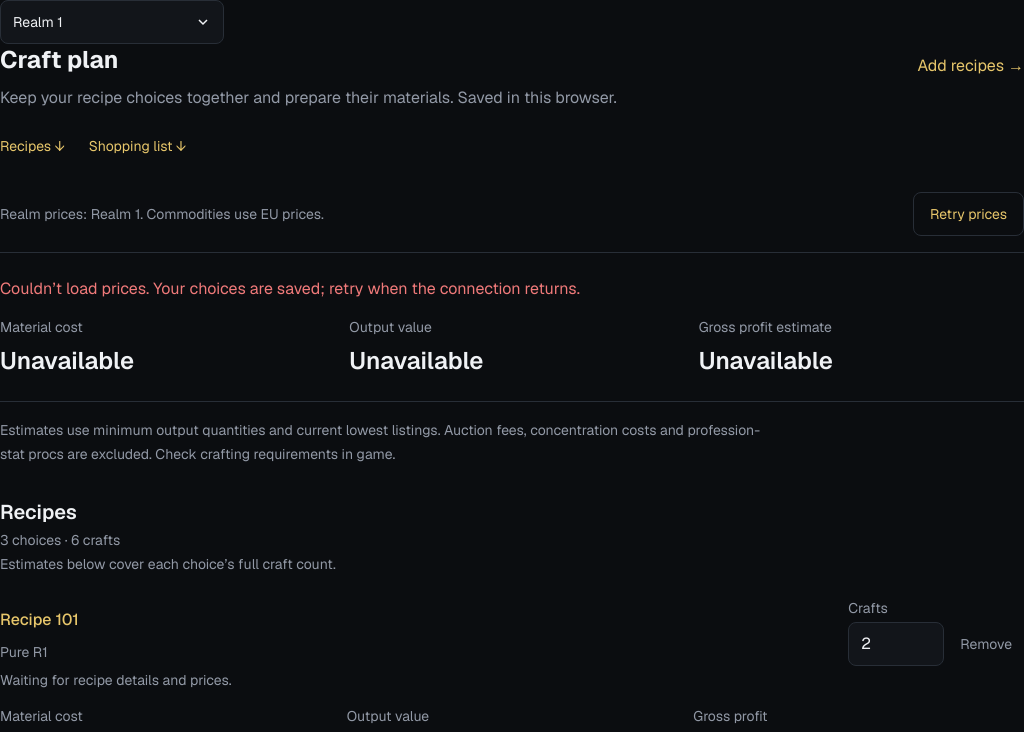
Test case: returning to a realm recovers after its earlier request failed
Expected: the message is shown, [0,278,580,299]
What coordinates should you click on to do the following:
click the button with aria-label "Connected realm:"
I would click on:
 (112, 22)
Its box is [0,0,224,44].
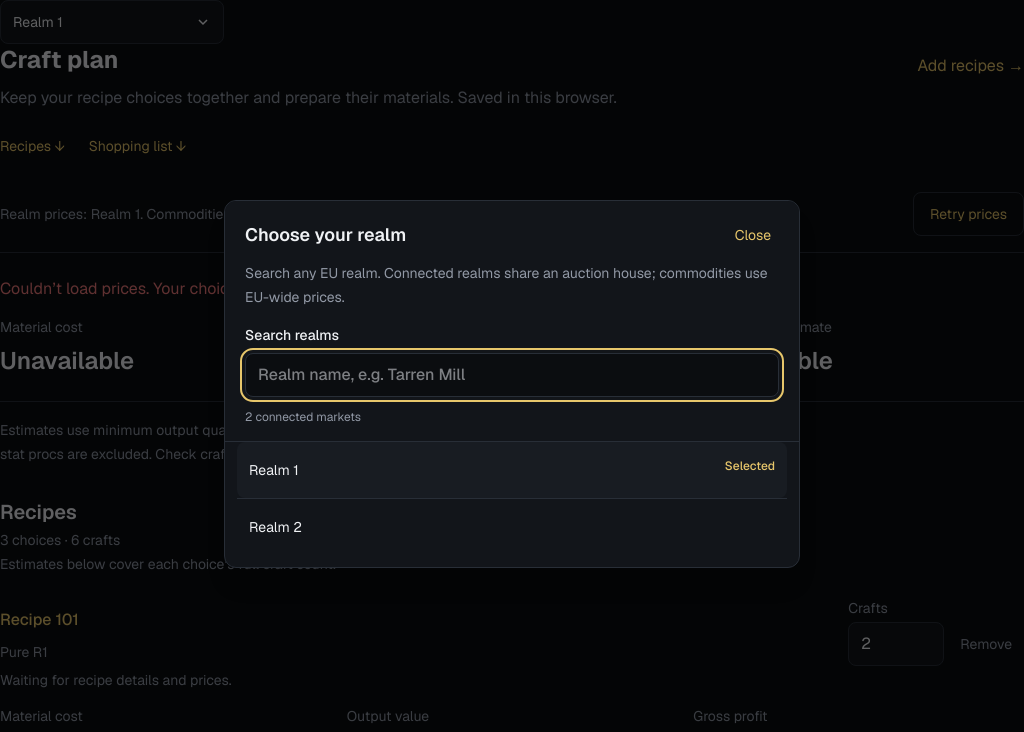
What coordinates should you click on to do the following:
click the button "Realm 2"
I would click on:
 (275, 527)
Its box is [237,499,787,555].
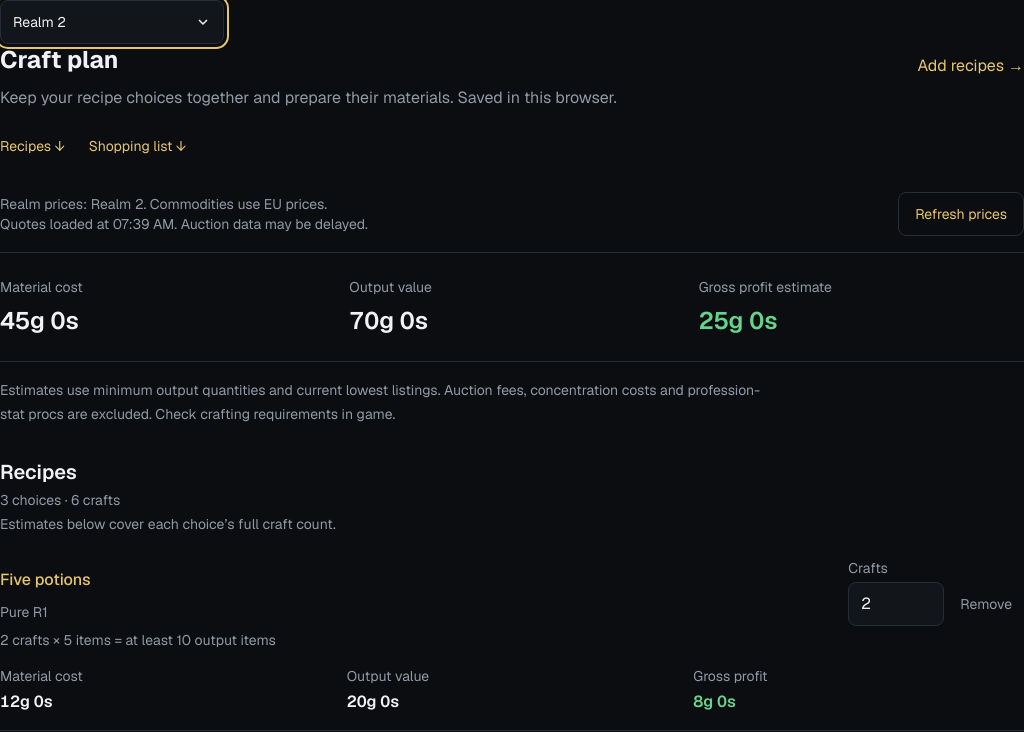
Now the text "45g 0s" is shown, box [0,305,79,336]
What coordinates should you click on to do the following:
click the button with aria-label "Connected realm:"
I would click on:
 (112, 22)
Its box is [0,0,224,44].
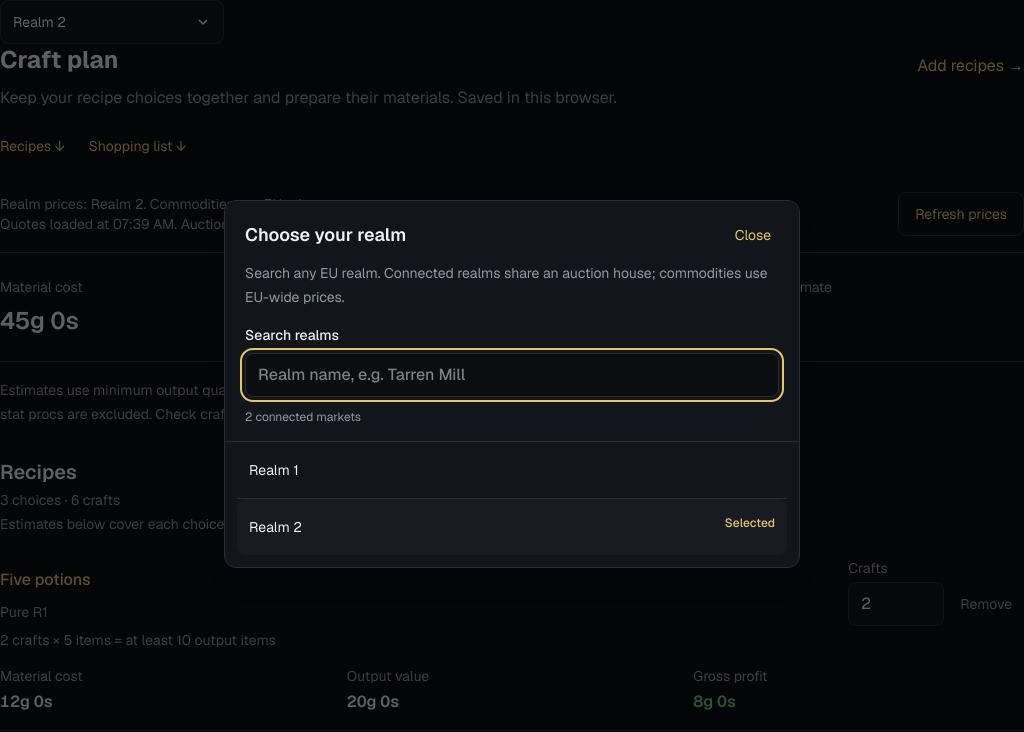
What coordinates should you click on to do the following:
click the button "Realm 1"
I would click on:
 (274, 470)
Its box is [237,442,787,498].
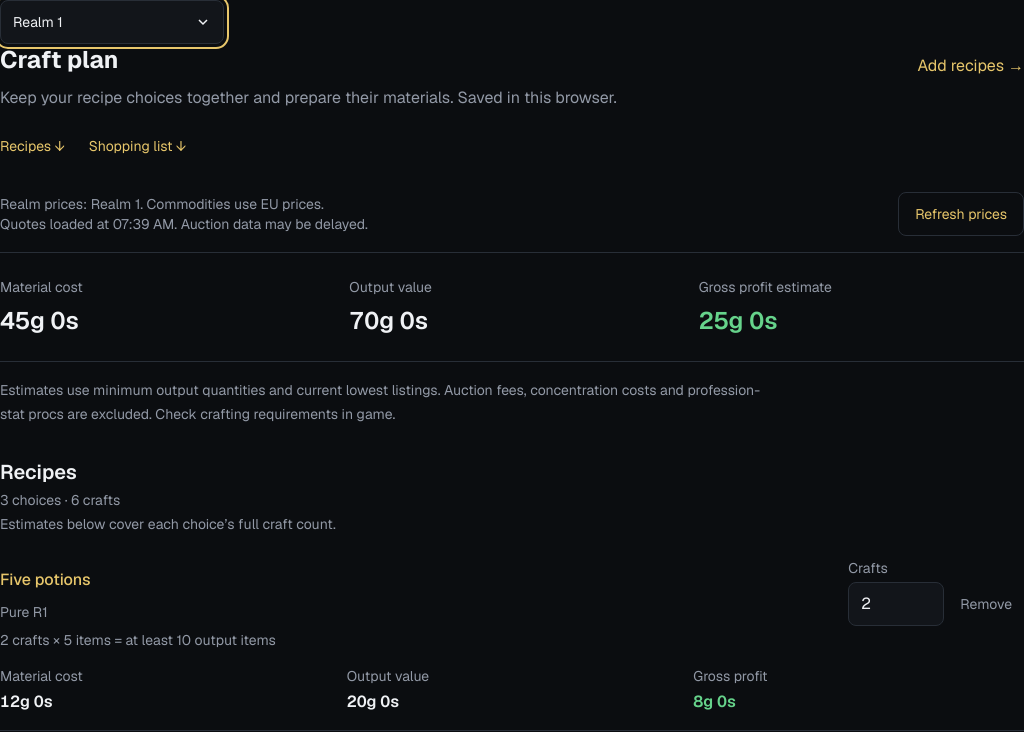
Now the text "45g 0s" is shown, box [0,305,79,336]
Now the message "2 connected markets" is gone
